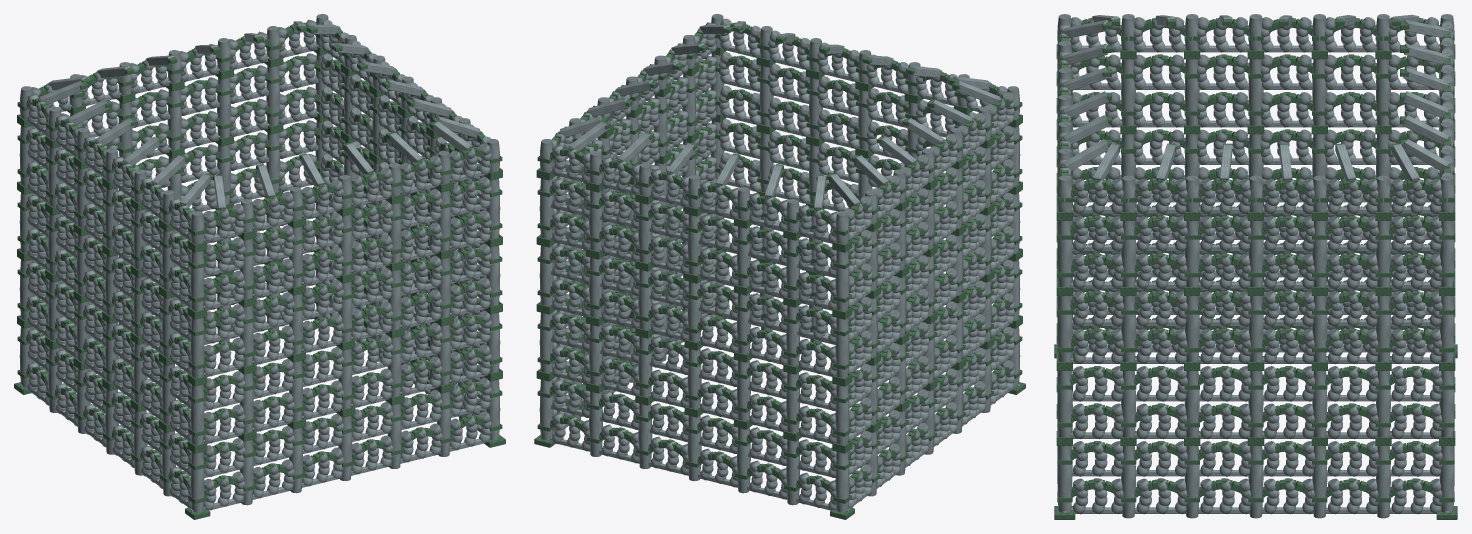
3 renders of one model, left to right at view 1: azimuth 30°, elevation 25°; view 2: azimuth 150°, elevation 25°; view 3: azimuth 270°, elevation 25°, orthographic. The views are drawn at different scales.
Visible parts, largest first — view 1: Tier 0 side 0 post 0, Tier 1 side 0 post 0, Tier 3 side 0 post 0, Tier 2 side 0 post 0, Tier 3 side 2 post 3, Tier 3 side 2 post 1, Tier 3 side 2 post 2, Tier 0 side 0 post 4, Tier 2 side 2 post 1, Tier 0 side 0 post 3, Tier 0 side 0 post 1, Tier 0 side 0 post 5 (+1 smaller); view 2: Tier 0 side 3 post 0, Tier 1 side 3 post 0, Tier 2 side 3 post 0, Tier 3 side 3 post 0, Tier 0 side 2 post 3, Tier 0 side 2 post 2, Tier 0 side 2 post 5, Tier 0 side 2 post 1, Tier 0 side 2 post 4, Tier 2 side 2 post 3, Tier 1 side 2 post 3, Tier 3 side 2 post 3 (+16 smaller); view 3: Tier 1 side 1 post 0, Tier 0 side 1 post 0, Tier 0 side 1 post 2, Tier 0 side 1 post 5, Tier 2 side 1 post 0, Tier 3 side 1 post 0, Tier 0 side 1 post 4, Tier 0 side 1 post 1, Tier 0 side 1 post 3, Tier 1 side 2 post 0, Tier 0 side 2 post 0, Tier 2 side 2 post 0 (+41 smaller).
Boxes of the visible parts, bbox=[...] form: Tier 0 side 0 post 0: bbox=[190, 452, 204, 512]; Tier 1 side 0 post 0: bbox=[190, 385, 204, 445]; Tier 3 side 0 post 0: bbox=[190, 251, 204, 311]; Tier 2 side 0 post 0: bbox=[190, 318, 204, 378]; Tier 3 side 2 post 3: bbox=[167, 89, 181, 150]; Tier 3 side 2 post 1: bbox=[266, 65, 280, 126]; Tier 3 side 2 post 2: bbox=[217, 77, 230, 138]; Tier 0 side 0 post 4: bbox=[387, 403, 401, 468]; Tier 2 side 2 post 1: bbox=[266, 132, 280, 192]; Tier 0 side 0 post 3: bbox=[338, 415, 352, 481]; Tier 0 side 0 post 1: bbox=[239, 439, 253, 505]; Tier 0 side 0 post 5: bbox=[437, 391, 450, 456]; Tier 0 side 3 post 0: bbox=[835, 452, 849, 512]; Tier 1 side 3 post 0: bbox=[835, 385, 849, 445]; Tier 2 side 3 post 0: bbox=[835, 318, 849, 378]; Tier 3 side 3 post 0: bbox=[835, 251, 849, 311]; Tier 0 side 2 post 3: bbox=[687, 415, 701, 481]; Tier 0 side 2 post 2: bbox=[638, 403, 652, 468]; Tier 0 side 2 post 5: bbox=[786, 439, 800, 505]; Tier 0 side 2 post 1: bbox=[589, 391, 602, 456]; Tier 0 side 2 post 4: bbox=[737, 427, 750, 493]; Tier 2 side 2 post 3: bbox=[687, 281, 701, 342]; Tier 1 side 2 post 3: bbox=[687, 348, 701, 409]; Tier 3 side 2 post 3: bbox=[687, 214, 701, 275]; Tier 1 side 1 post 0: bbox=[1057, 371, 1072, 437]; Tier 0 side 1 post 0: bbox=[1057, 446, 1072, 512]; Tier 0 side 1 post 2: bbox=[1184, 446, 1199, 518]; Tier 0 side 1 post 5: bbox=[1376, 446, 1390, 518]; Tier 2 side 1 post 0: bbox=[1057, 296, 1072, 361]; Tier 3 side 1 post 0: bbox=[1057, 221, 1072, 286]; Tier 0 side 1 post 4: bbox=[1312, 446, 1327, 518]; Tier 0 side 1 post 1: bbox=[1121, 446, 1135, 518]; Tier 0 side 1 post 3: bbox=[1248, 446, 1263, 518]; Tier 1 side 2 post 0: bbox=[1439, 371, 1454, 437]; Tier 0 side 2 post 0: bbox=[1439, 446, 1454, 512]; Tier 2 side 2 post 0: bbox=[1439, 296, 1454, 361].
Bounding box in the file's own units: 2.85 × 2.76 × 2.85.
Materials: 2 (2 with a texture image).
